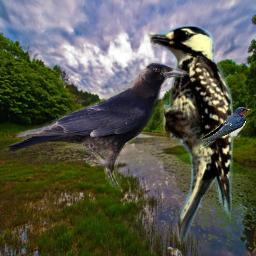Crow: (5, 61, 188, 193)
Swallow: (192, 107, 250, 155)
Woodpecker: (145, 25, 238, 244)
